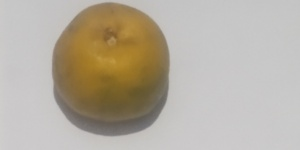BAD: (46, 2, 173, 123)
